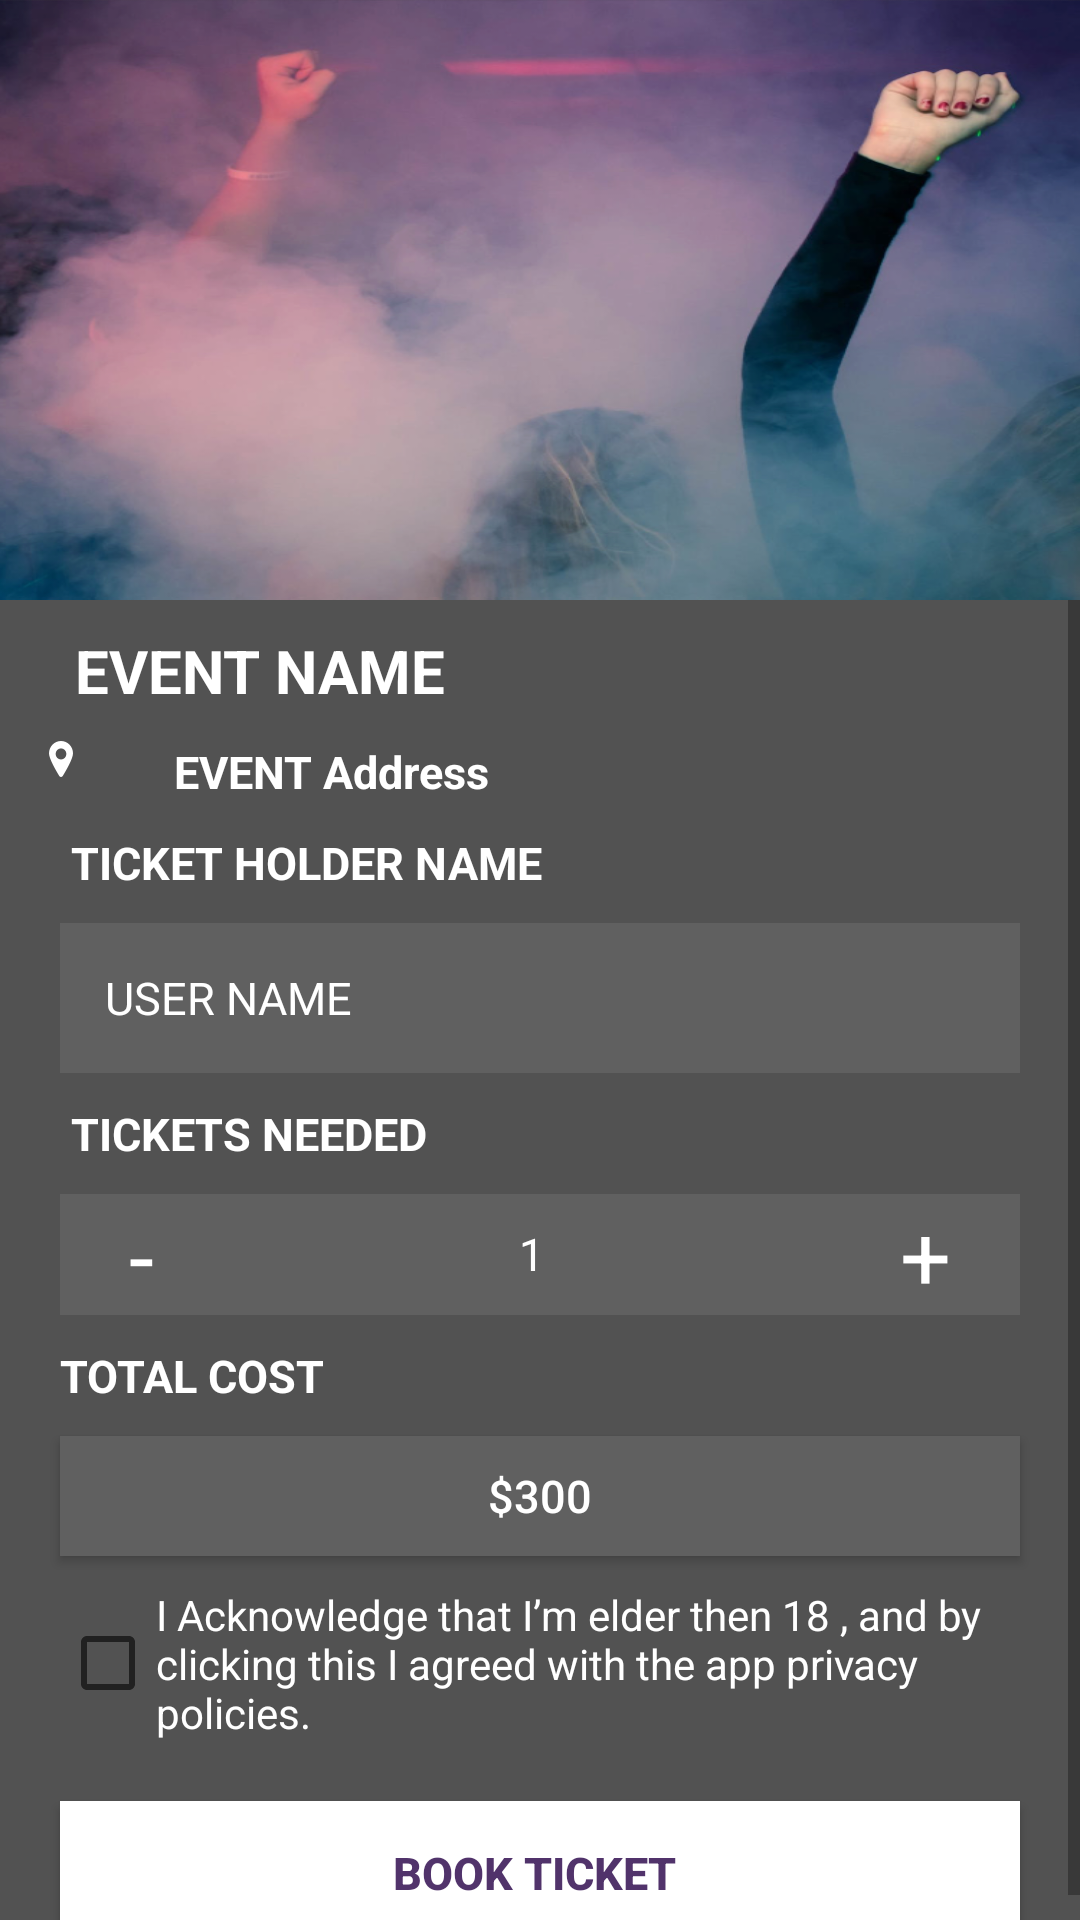

Screen size 1080w x 1920h. Icon name, then its box in pixels as bbox(x1, y1, x2, y2):
location: bbox(49, 741, 73, 777)
